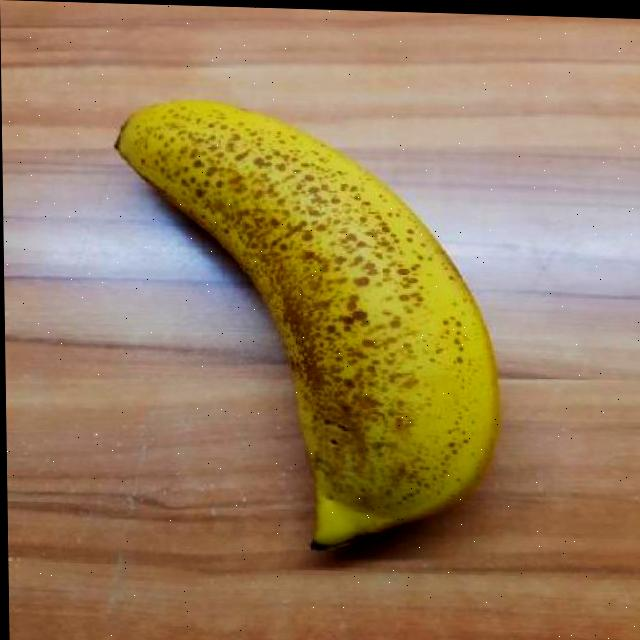banana: (111, 94, 512, 564)
